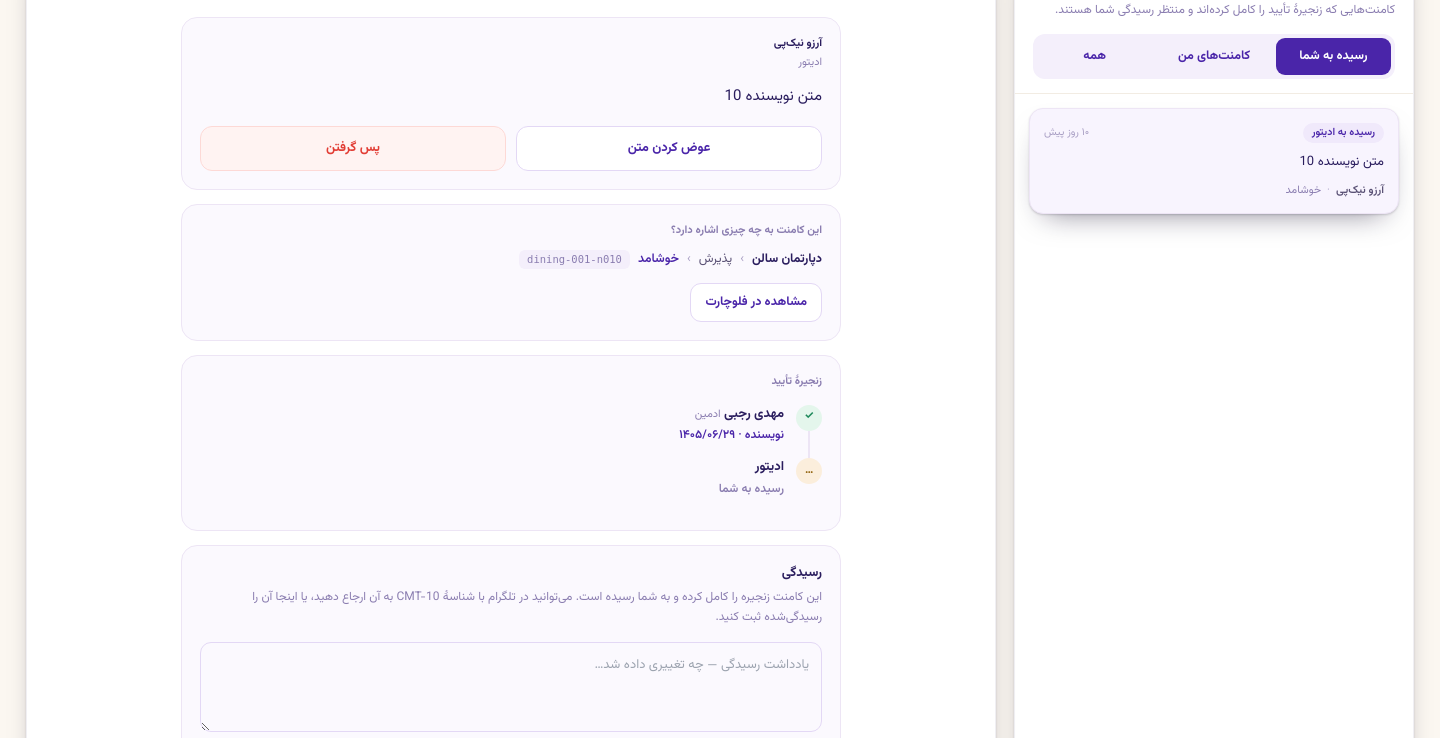
it: panel inbox › shows the text again when the draft stops being the author’s to save (review 3)
The width and height of the screenshot is (1440, 738).
Click the button "عوض کردن متن". click: (669, 148)
box: [516,126,822,171]
(page scrolled)
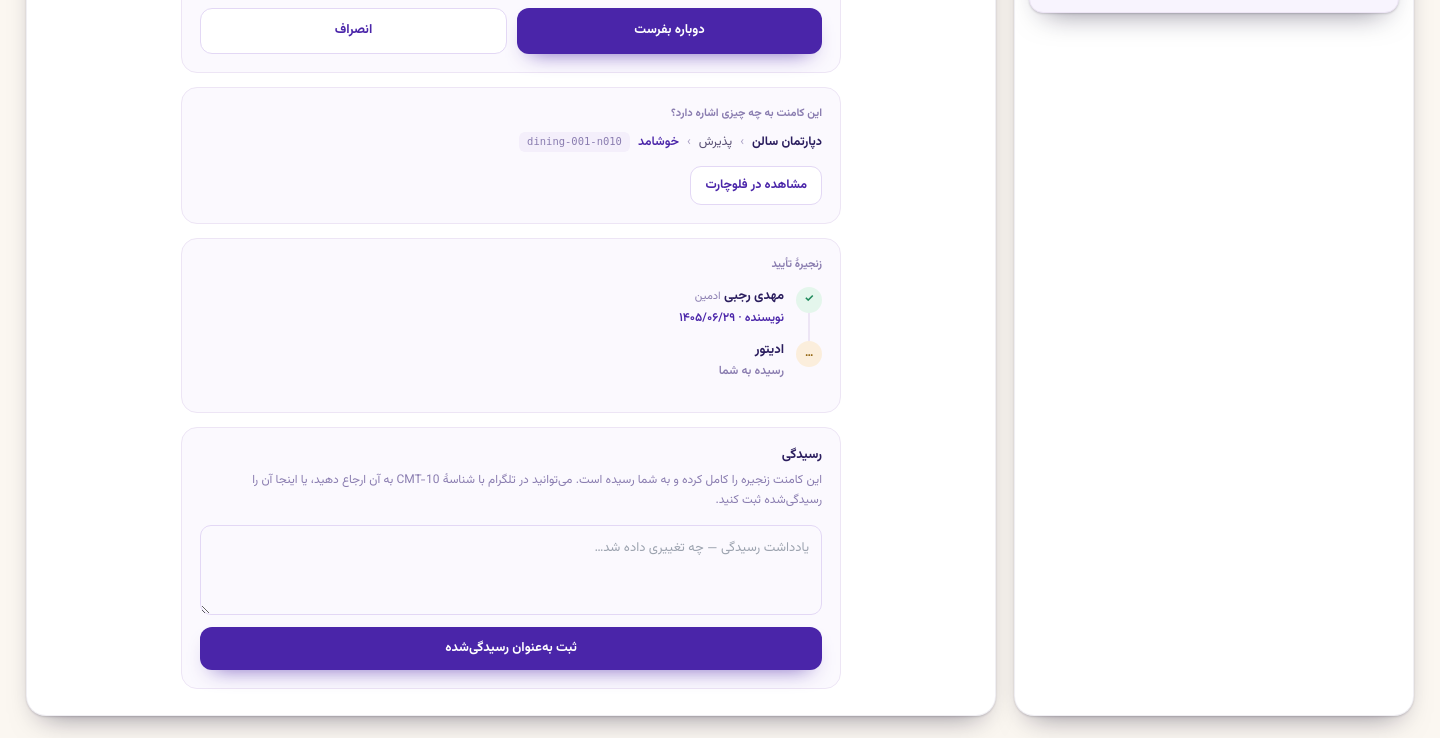
Click the button "ثبت به‌عنوان رسیدگی‌شده". click: (511, 649)
box: [200,627,822,670]
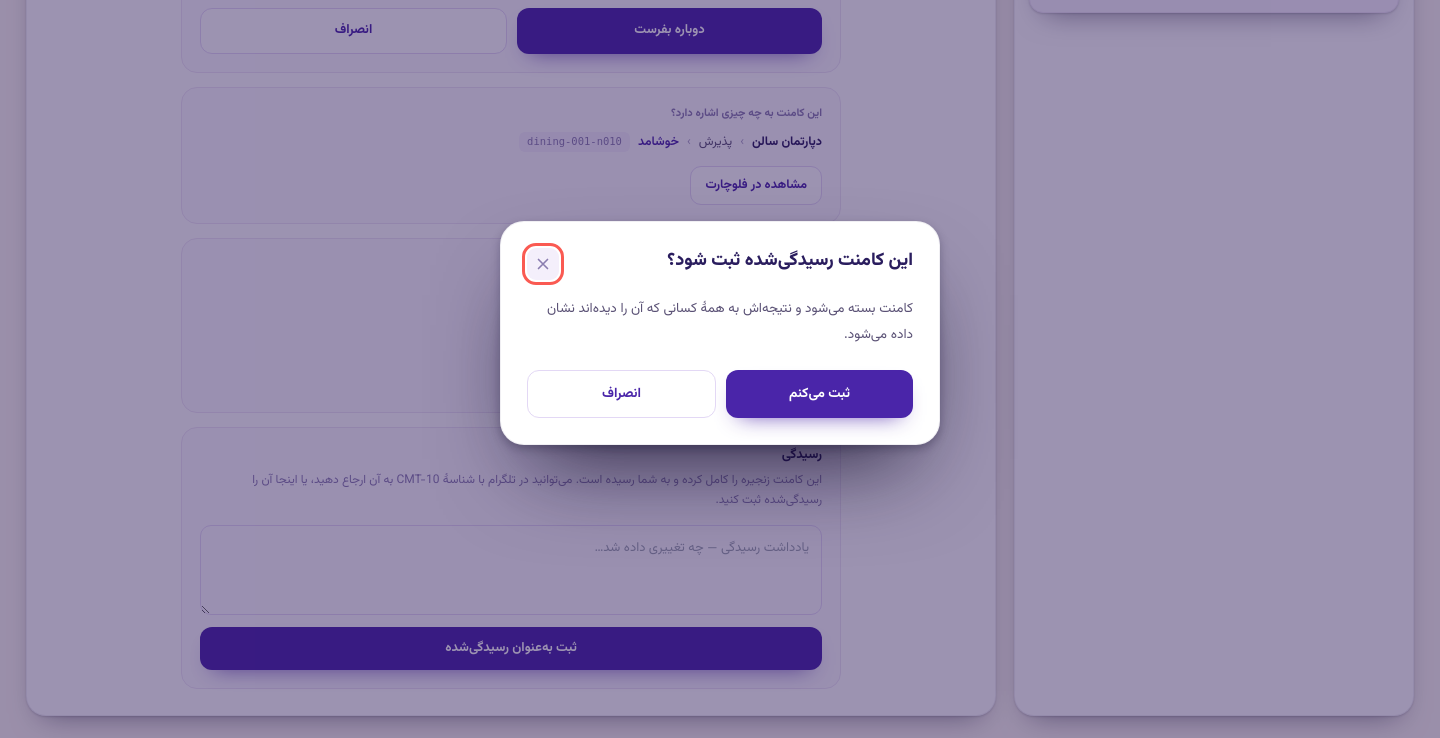
Click the button "ثبت می‌کنم". click: (820, 394)
box: [726,370,913,418]
(page scrolled)
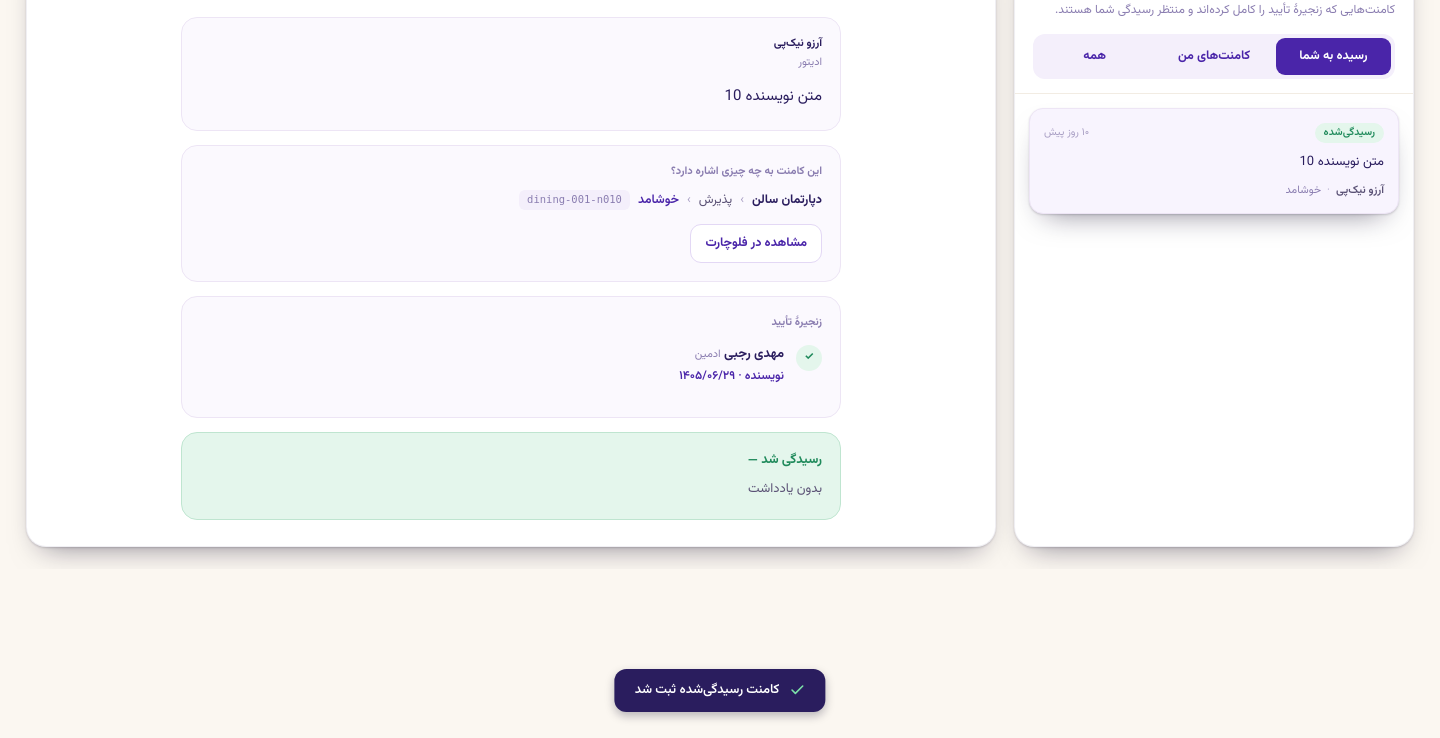
Check: the text "متن نویسنده 10" below "ادیتور" is shown, box [725,85,822,108]
